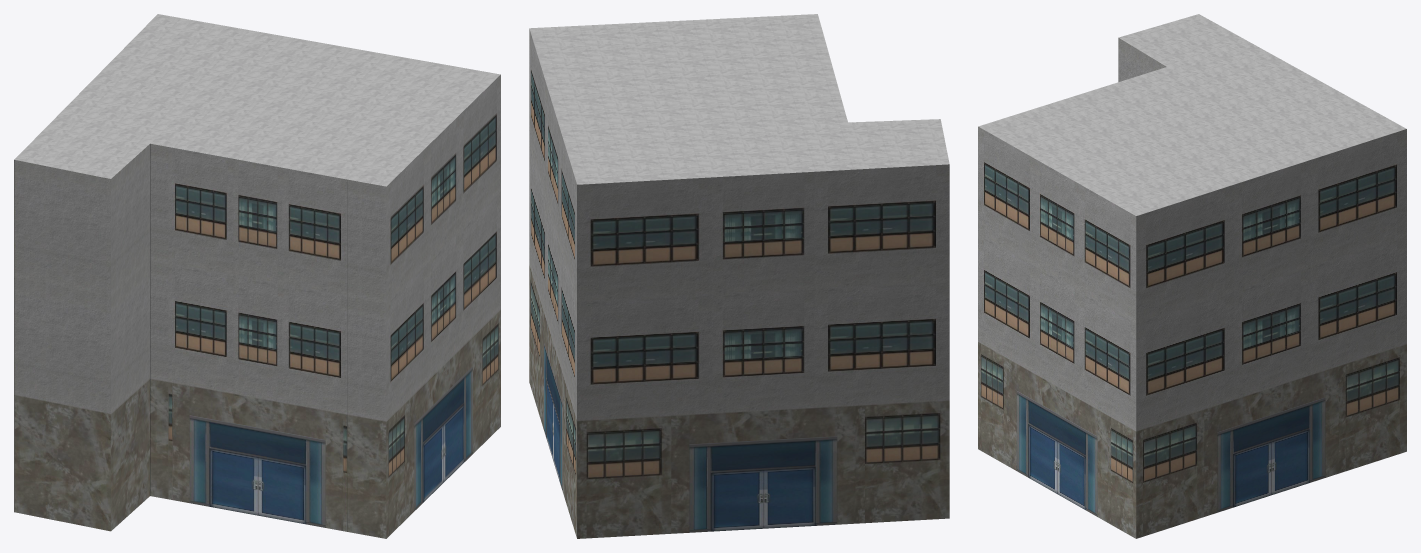
The picture shows the model from 3 angles, left to right: view 1: azimuth 30°, elevation 25°; view 2: azimuth 150°, elevation 25°; view 3: azimuth 270°, elevation 25°; orthographic projection. The views are drawn at different scales.
Parts seen in each view (by area): view 1: BuildingMaster_0000193645884462162800000000_0, BuildingMaster_0000193645884462162800000000_1; view 2: BuildingMaster_0000193645884462162800000000_0, BuildingMaster_0000193645884462162800000000_1; view 3: BuildingMaster_0000193645884462162800000000_0, BuildingMaster_0000193645884462162800000000_1.
Boxes of the visible parts, box(x1,y1,x2,y2) form: BuildingMaster_0000193645884462162800000000_0: box(14, 75, 500, 538); BuildingMaster_0000193645884462162800000000_1: box(14, 14, 500, 186); BuildingMaster_0000193645884462162800000000_0: box(529, 29, 949, 538); BuildingMaster_0000193645884462162800000000_1: box(529, 14, 949, 184); BuildingMaster_0000193645884462162800000000_0: box(978, 38, 1406, 538); BuildingMaster_0000193645884462162800000000_1: box(978, 14, 1406, 215).
Bounding box in the file's own units: 14.11 × 10.5 × 12.64.
Materials: 2 (2 with a texture image).
